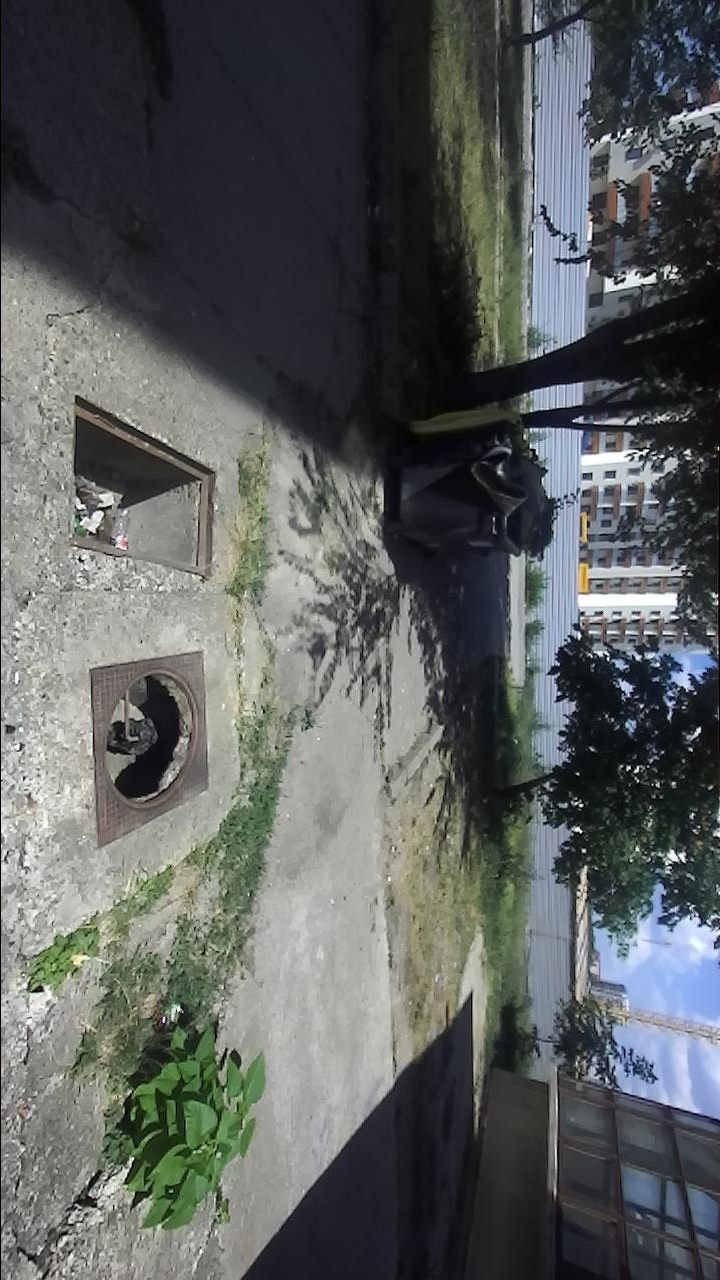drain: (63, 390, 221, 584), (99, 665, 203, 818)
